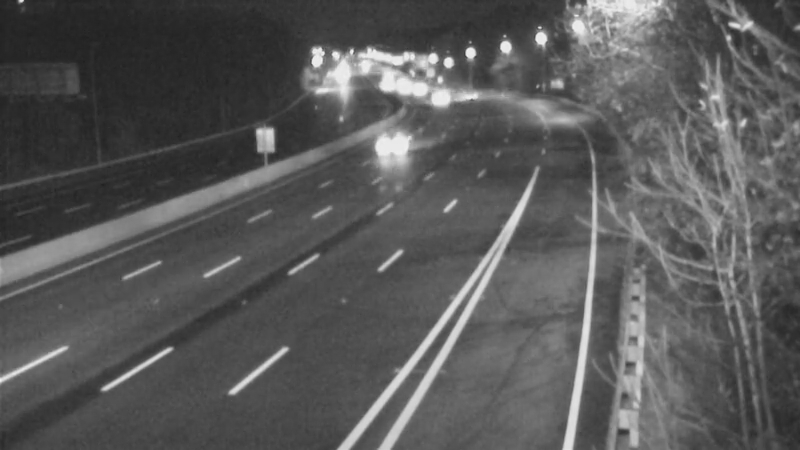vehicle: (442, 65, 492, 115), (413, 68, 463, 118), (353, 124, 403, 174)
